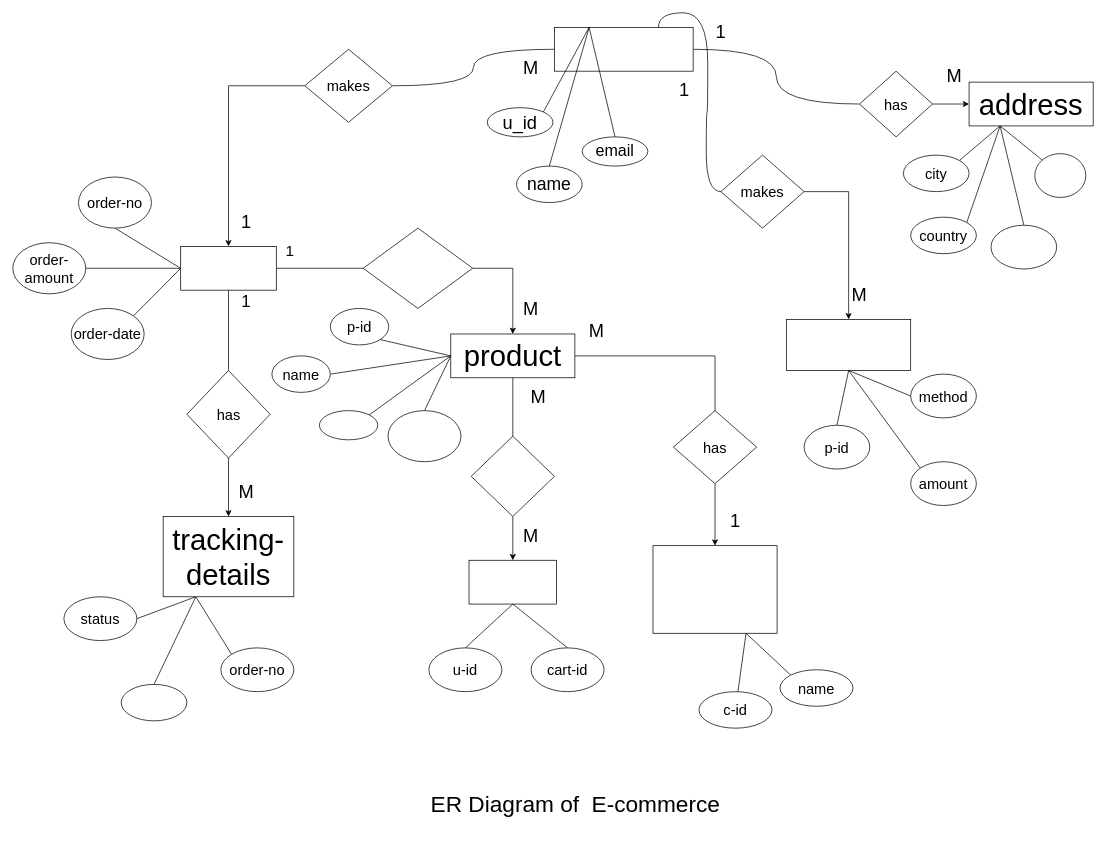
The diagram is 1106 pixels wide and 843 high, and some of its shapes have lost their labels. Each missing label, with the centre of its shape:
"a-id" goes at point (1060, 175).
"added to" goes at point (512, 475).
"cart" goes at point (512, 582).
"contains" goes at point (417, 267).
"description" goes at point (424, 436).
"order" goes at point (228, 268).
"payment" goes at point (848, 344).
"price" goes at point (348, 425).
"product- category" goes at point (714, 589).
"state" goes at point (1023, 246).
"t-id" goes at point (153, 702).
"User" goes at point (623, 49).
